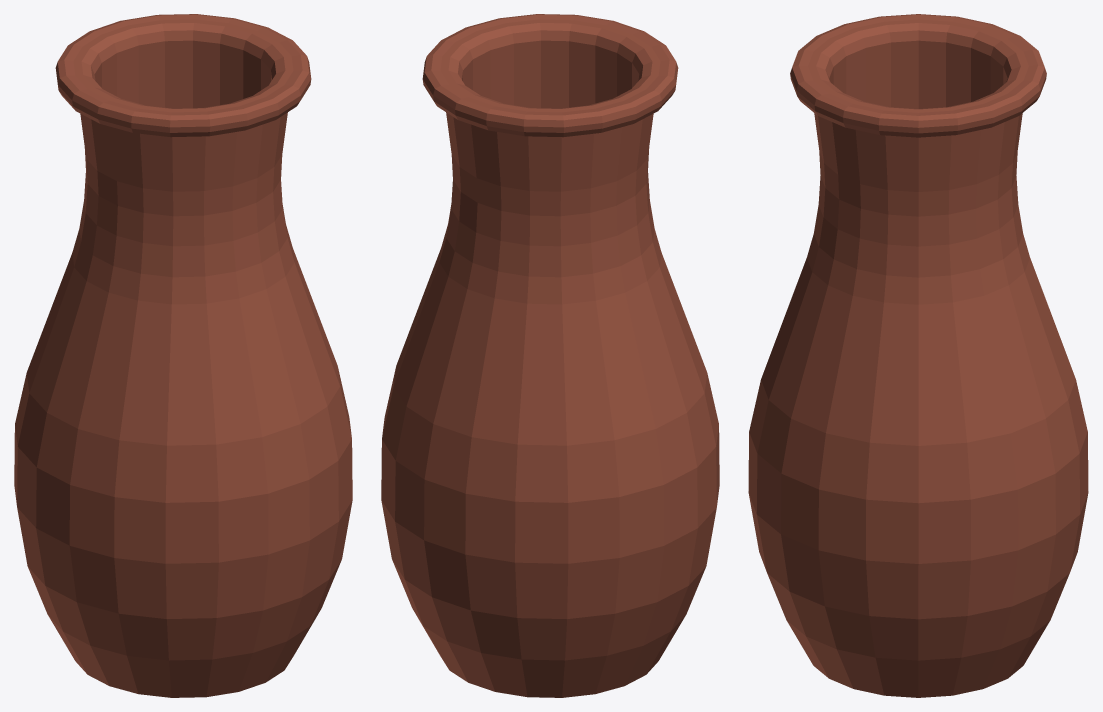
Rendered from Pot.fbx.
3 renders of one model, left to right at view 1: azimuth 30°, elevation 25°; view 2: azimuth 150°, elevation 25°; view 3: azimuth 270°, elevation 25°, orthographic.
Parts seen in each view (by area): view 1: pot; view 2: pot; view 3: pot.
Part boxes in pixels (<box>): pot: <box>14,14,352,697</box>; pot: <box>381,14,719,697</box>; pot: <box>748,14,1088,697</box>.
Bounding box in the file's own units: 108 × 205 × 108.
